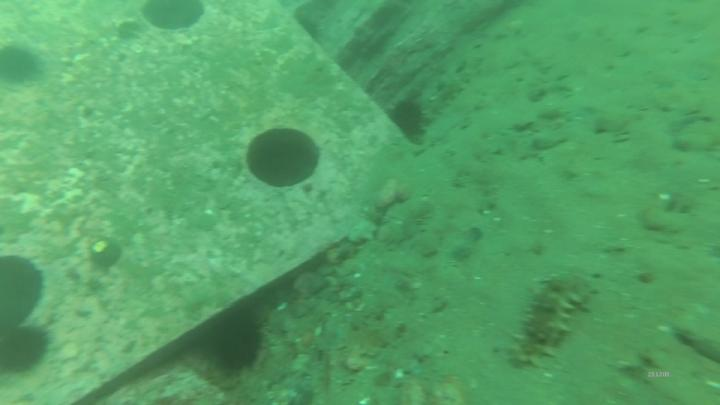echinus: (199, 306, 272, 383), (2, 321, 51, 375), (384, 96, 432, 145)
holothurian: (518, 270, 591, 372)
